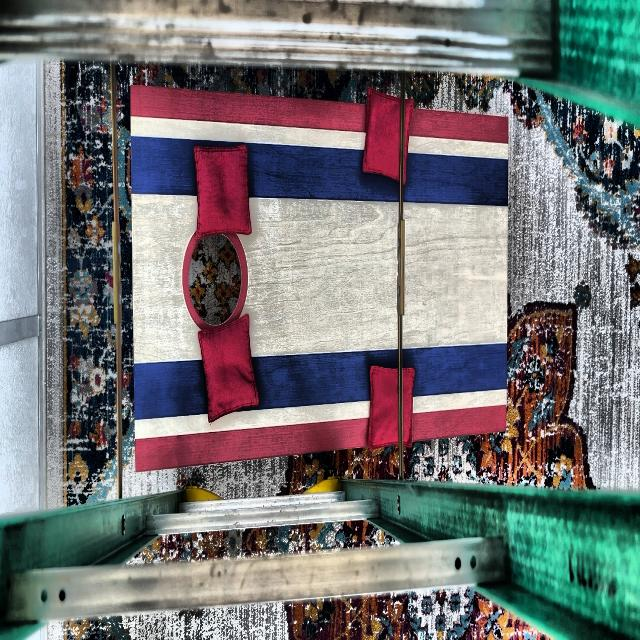board: (134, 117, 505, 430)
hole: (182, 226, 248, 330)
red-bean-bag: (197, 316, 261, 423), (194, 145, 252, 235), (363, 88, 413, 184), (368, 365, 415, 448)
